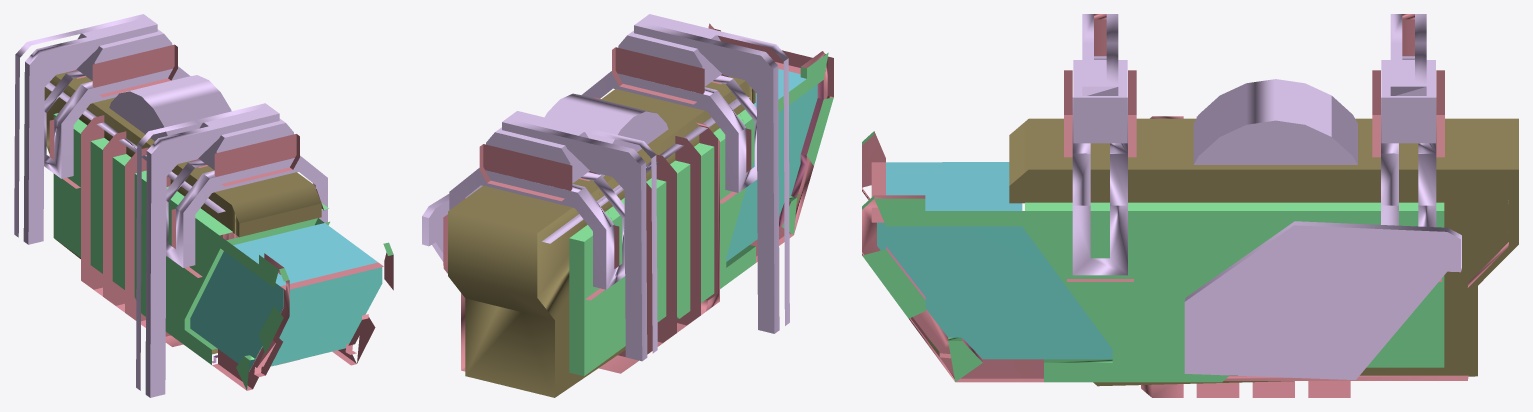
Rendered from crane_tower_delta_cockpit_a_lod3.glb.
The picture shows the model from 3 angles, left to right: view 1: azimuth 30°, elevation 25°; view 2: azimuth 150°, elevation 25°; view 3: azimuth 270°, elevation 25°; orthographic projection. The views are drawn at different scales.
Bounding box in the file's own units: 4.35 × 5.56 × 10.32.
